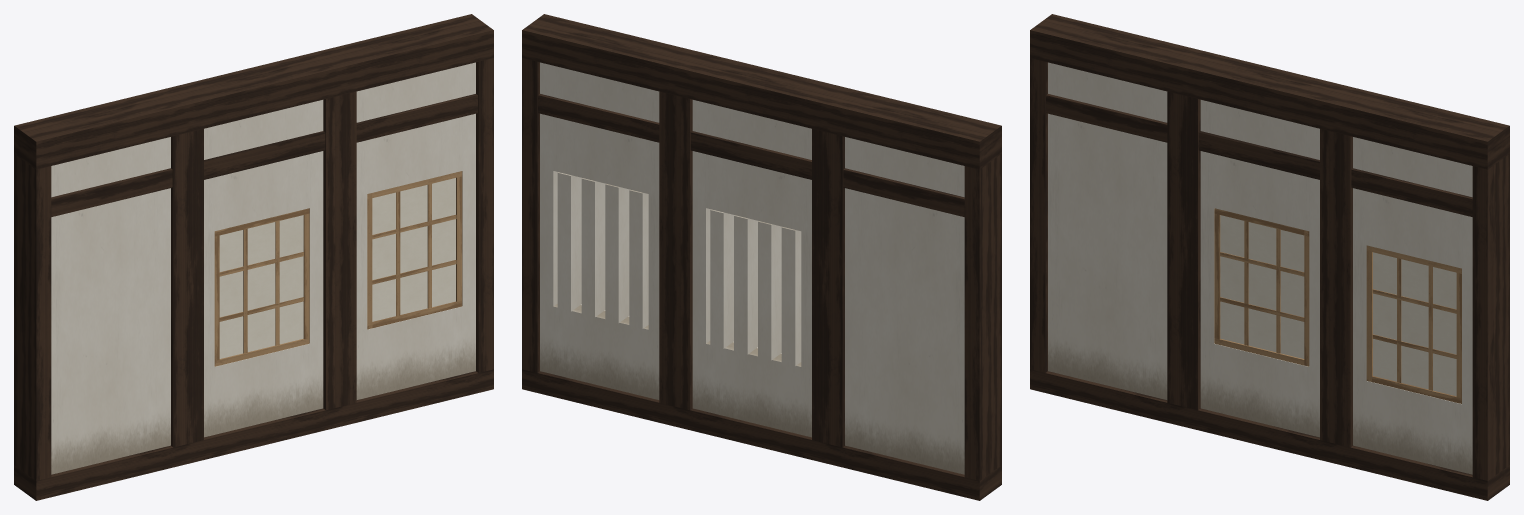
File: HO_Wall_Upper_Mushiko_12.fbx
The picture shows the model from 3 angles, left to right: view 1: azimuth 30°, elevation 25°; view 2: azimuth 150°, elevation 25°; view 3: azimuth 330°, elevation 25°; orthographic projection.
Visible parts, largest first — view 1: HO_Wall_Upper_Mushiko_12; view 2: HO_Wall_Upper_Mushiko_12; view 3: HO_Wall_Upper_Mushiko_12.
Boxes of the visible parts, x1=… form: HO_Wall_Upper_Mushiko_12: x1=14, y1=14, x2=493, y2=500; HO_Wall_Upper_Mushiko_12: x1=522, y1=14, x2=1001, y2=500; HO_Wall_Upper_Mushiko_12: x1=1030, y1=14, x2=1509, y2=500.
Bounding box in the file's own units: 12 × 9 × 1.
